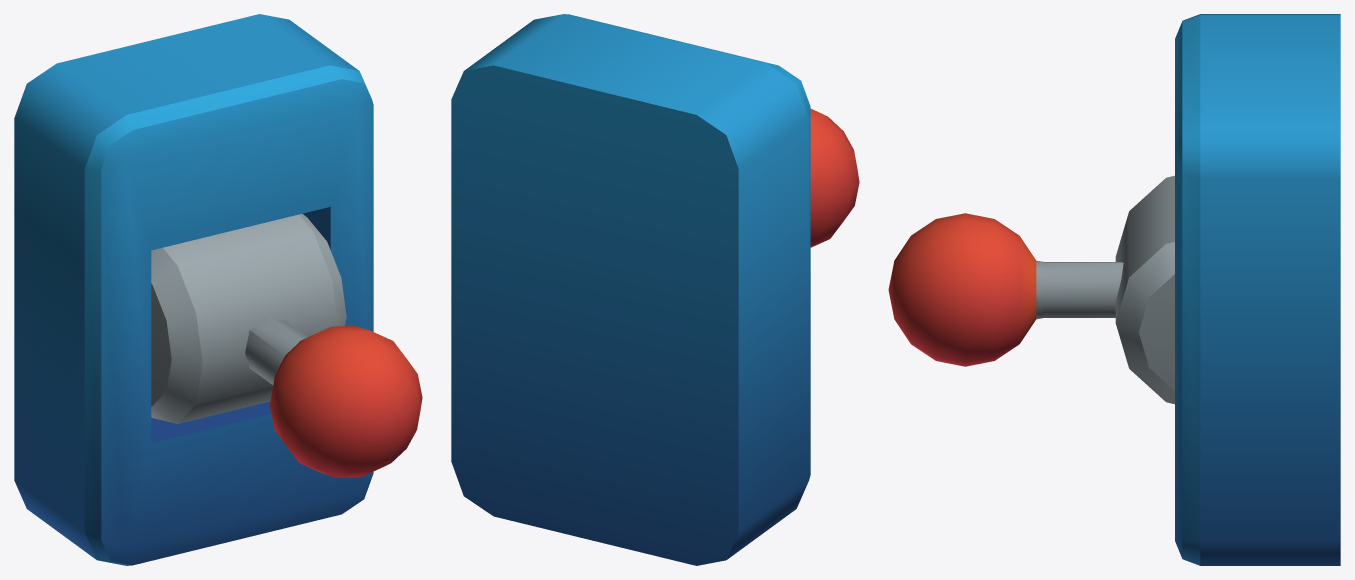
File: kaykit_lever_wall_base_A_blue.glb
3 renders of one model, left to right at view 1: azimuth 30°, elevation 25°; view 2: azimuth 150°, elevation 25°; view 3: azimuth 270°, elevation 25°, orthographic.
Visible parts, largest first — view 1: lever_wall_base_A_blue_visual, lever_wall_A_blue_visual; view 2: lever_wall_base_A_blue_visual, lever_wall_A_blue_visual; view 3: lever_wall_base_A_blue_visual, lever_wall_A_blue_visual.
Part boxes in pixels (box(x1,y1,x2,y2)): lever_wall_base_A_blue_visual: box(14, 14, 373, 565); lever_wall_A_blue_visual: box(151, 213, 422, 477); lever_wall_base_A_blue_visual: box(451, 14, 810, 565); lever_wall_A_blue_visual: box(810, 109, 859, 247); lever_wall_base_A_blue_visual: box(1175, 14, 1340, 565); lever_wall_A_blue_visual: box(888, 175, 1174, 404).
Size of what is drawn, in the model's own units: 0.8 by 1.2 by 1.09.
Materials: 1 (1 with a texture image).
